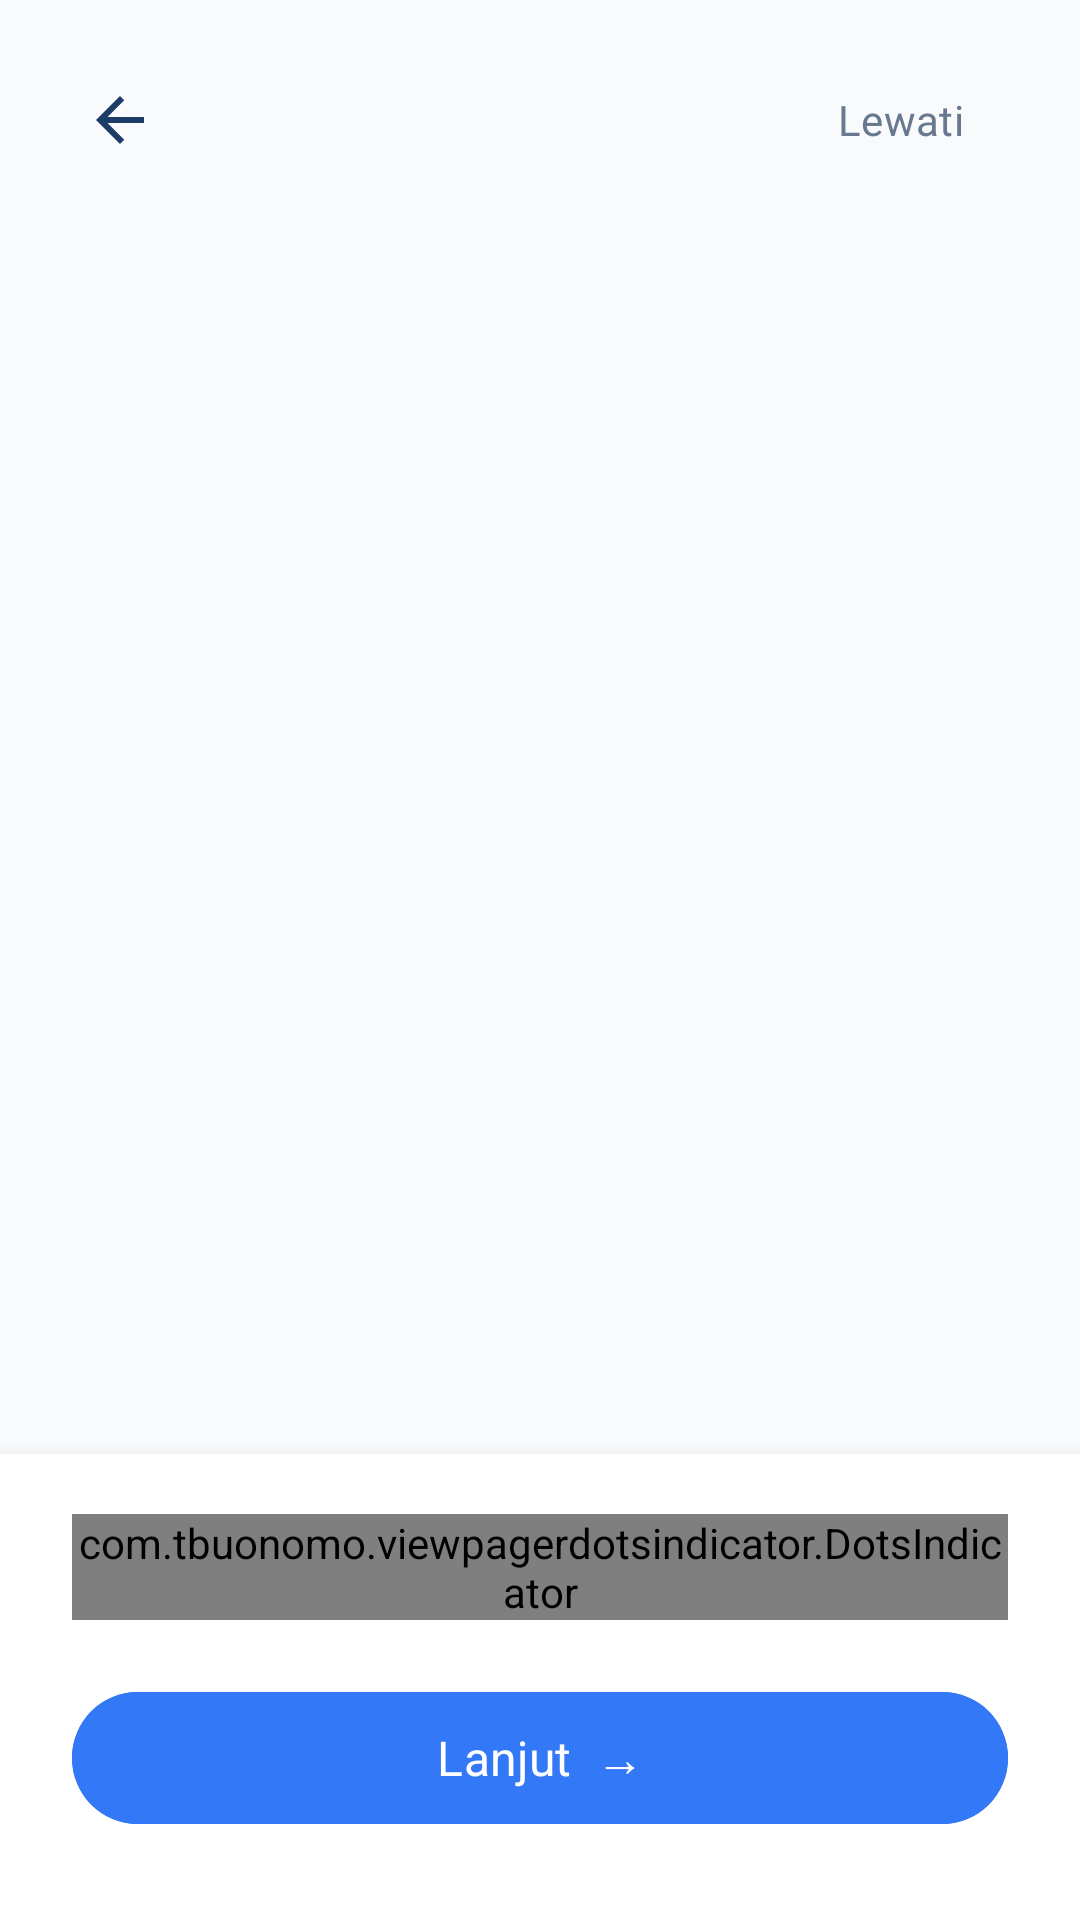

Point at icon controls on the screen. Image size 1080*1920, points as (x,y).
Kembali: (120,120)
